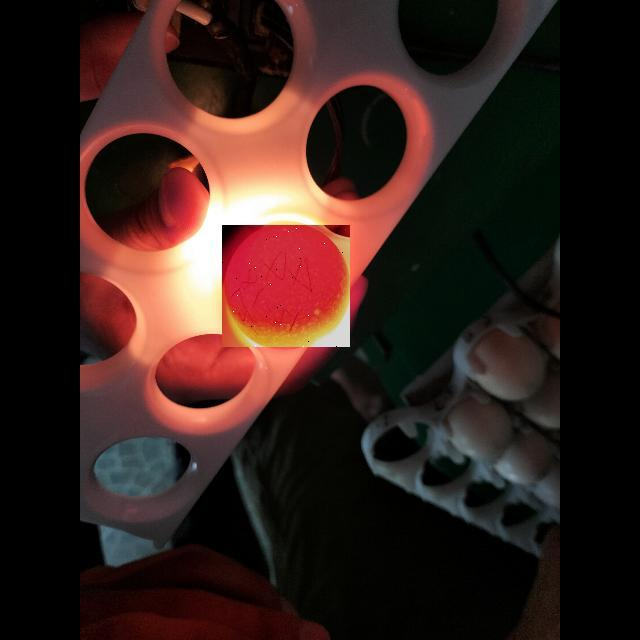Infertile: (222, 225, 350, 347)
